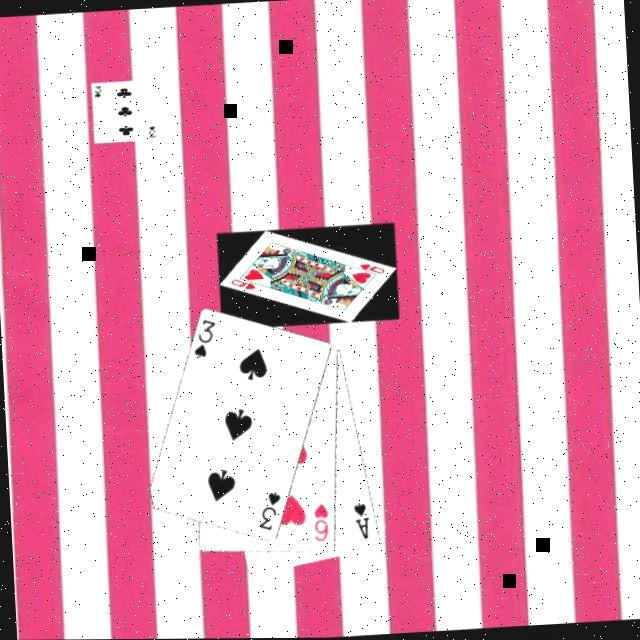3S: (187, 314, 219, 361), (252, 488, 284, 532)
6H: (308, 499, 330, 544)
AS: (348, 498, 372, 542)
